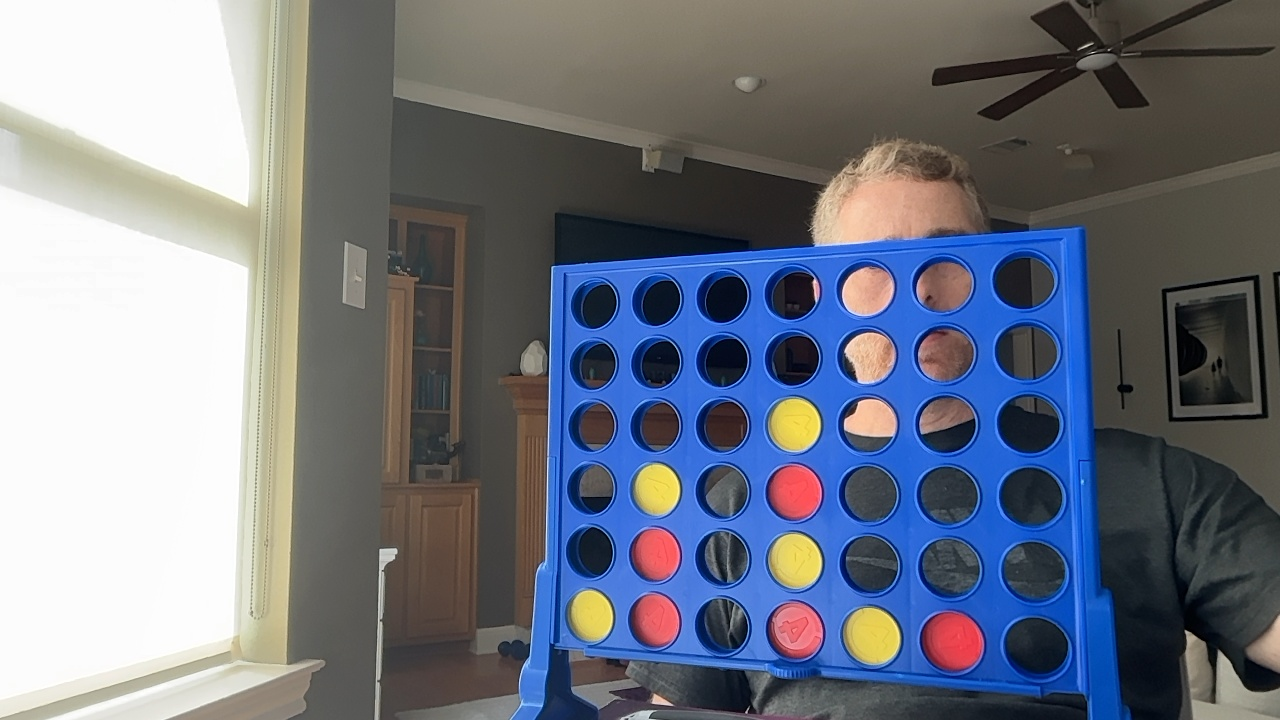red piece: (922, 611, 984, 671), (767, 601, 823, 659), (766, 464, 822, 520), (630, 593, 680, 647), (631, 528, 680, 581)
yellow piece: (843, 607, 901, 666), (768, 533, 822, 589), (768, 397, 821, 451), (632, 463, 680, 516), (567, 589, 613, 642)
